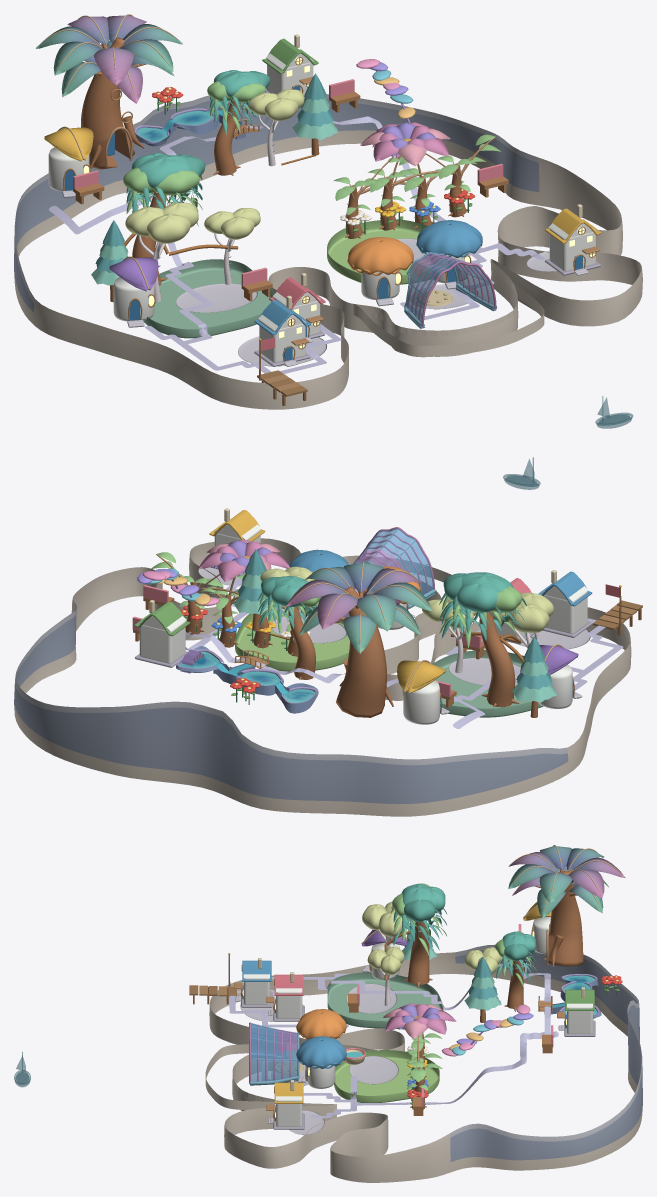
File: source-context.glb
3 renders of one model, top to bottom at view 1: azimuth 30°, elevation 25°; view 2: azimuth 150°, elevation 25°; view 3: azimuth 270°, elevation 25°, orthographic. The views are drawn at different scales.
Parts seen in each view (by area): view 1: Coast / continuous layered shore:0, Coast / continuous layered shore:1, house / porcelain plaster (×7), grove / living violet and jade lamina, growing-reachable-paths, sculpted tree wood (×3), silver birch / pale gold leaves (×3), Grove / rounded living terrace:0, growing-objects, home / scalloped blue cap (×2), authored-bank, house / warm yellow roof (×4) (+19 smaller); view 2: Coast / continuous layered shore:1, Coast / continuous layered shore:0, grove / living violet and jade lamina, sculpted tree wood (×3), house / porcelain plaster (×5), Coast / continuous layered shore:2, willow / pale blue jade leaves (×2), growing-reachable-paths, Garden / rounded flower terrace:0, growing-objects, Grove / rounded living terrace:0, house / warm yellow roof (×3) (+21 smaller); view 3: Coast / continuous layered shore:0, Coast / continuous layered shore:1, grove / living violet and jade lamina, house / porcelain plaster (×6), sculpted tree wood (×3), growing-reachable-paths, Grove / rounded living terrace:0, Garden / rounded flower terrace:0, home / scalloped blue cap (×2), silver birch / pale gold leaves (×3), Harbor__continuous_translucent_shell_hall_1, house / warm yellow roof (×4) (+14 smaller).
Part boxes in pixels (x1,y1,x2,y2): Coast / continuous layered shore:0: [14, 130, 642, 409]; Coast / continuous layered shore:1: [14, 99, 539, 312]; house / porcelain plaster (×7): [48, 53, 596, 362]; grove / living violet and jade lamina: [35, 15, 182, 103]; growing-reachable-paths: [49, 116, 544, 373]; sculpted tree wood (×3): [81, 37, 240, 285]; silver birch / pale gold leaves (×3): [125, 89, 304, 243]; Grove / rounded living terrace:0: [143, 259, 274, 338]; growing-objects: [73, 79, 506, 306]; home / scalloped blue cap (×2): [347, 220, 482, 274]; authored-bank: [353, 282, 544, 357]; house / warm yellow roof (×4): [254, 38, 601, 354]; Coast / continuous layered shore:1: [14, 609, 568, 804]; Coast / continuous layered shore:0: [14, 538, 631, 816]; grove / living violet and jade lamina: [286, 562, 431, 653]; sculpted tree wood (×3): [288, 586, 519, 717]; house / porcelain plaster (×5): [139, 524, 588, 724]; Coast / continuous layered shore:2: [15, 603, 567, 765]; willow / pale blue jade leaves (×2): [257, 572, 526, 634]; growing-reachable-paths: [185, 579, 623, 728]; Garden / rounded flower terrace:0: [235, 607, 349, 671]; growing-objects: [132, 585, 484, 707]; Grove / rounded living terrace:0: [402, 650, 543, 717]; house / warm yellow roof (×3): [134, 510, 592, 636]; Coast / continuous layered shore:0: [209, 952, 642, 1182]; Coast / continuous layered shore:1: [450, 950, 642, 1161]; grove / living violet and jade lamina: [508, 846, 625, 918]; house / porcelain plaster (×6): [243, 916, 592, 1126]; sculpted tree wood (×3): [404, 870, 583, 1011]; growing-reachable-paths: [229, 960, 558, 1118]; Grove / rounded living terrace:0: [327, 972, 443, 1029]; Garden / rounded flower terrace:0: [334, 1050, 439, 1102]; home / scalloped blue cap (×2): [296, 1009, 346, 1068]; silver birch / pale gold leaves (×3): [362, 901, 501, 974]; Harbor__continuous_translucent_shell_hall_1: [251, 1023, 297, 1081]; house / warm yellow roof (×4): [240, 960, 594, 1115].
Size of the model in its own units: 15.34 by 5.82 by 19.47.
